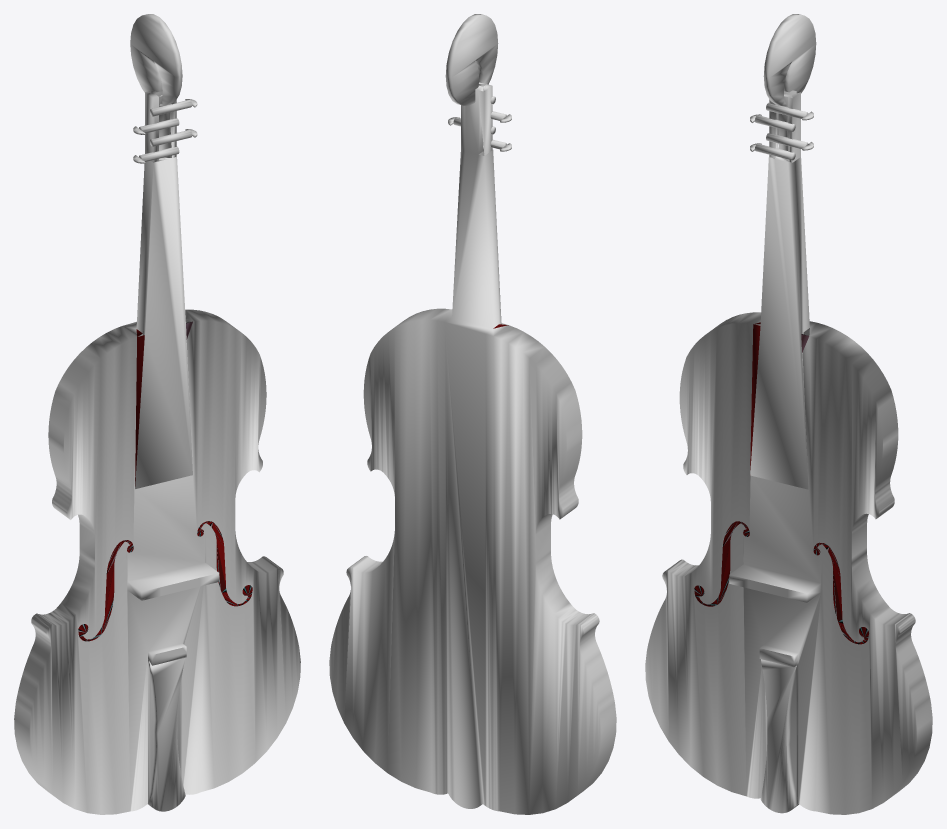
3 views of the same model, side by side, from view 1: azimuth 30°, elevation 25°; view 2: azimuth 150°, elevation 25°; view 3: azimuth 330°, elevation 25° (orthographic).
Size of the model in its own units: 2.02 by 5.58 by 0.5989.
